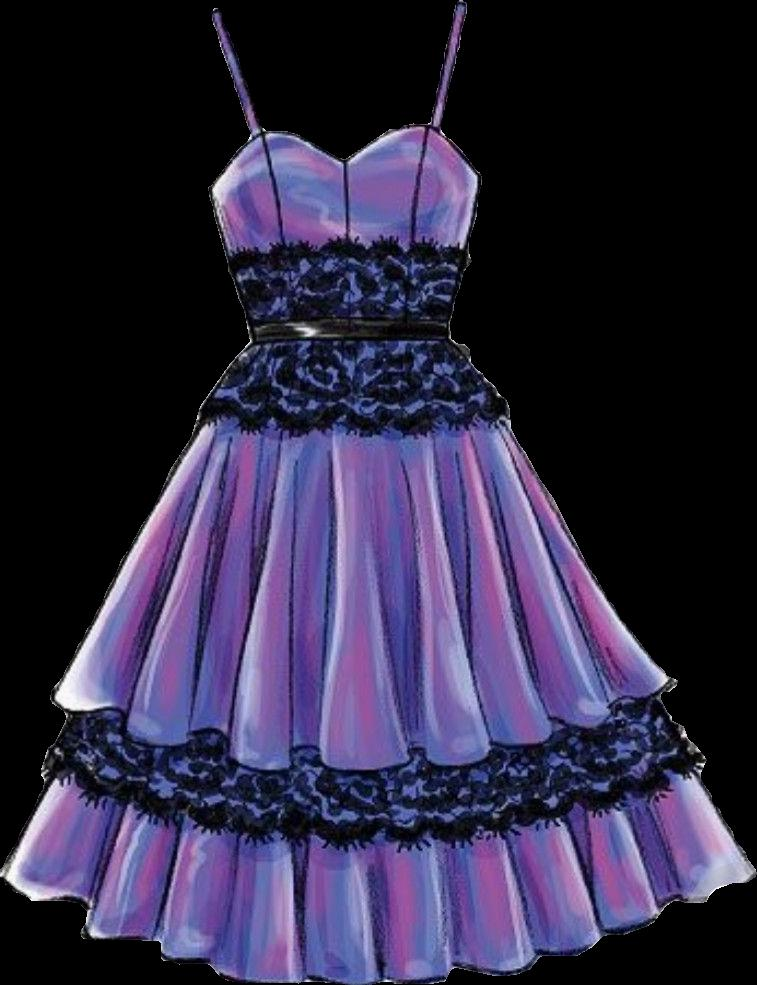Bodice: (208, 0, 482, 345)
Hemline: (0, 867, 756, 984), (44, 677, 681, 775)
Neckline: (215, 0, 467, 168), (246, 312, 450, 333)
Skirt: (1, 341, 756, 984)
Waistline: (246, 335, 454, 354)
